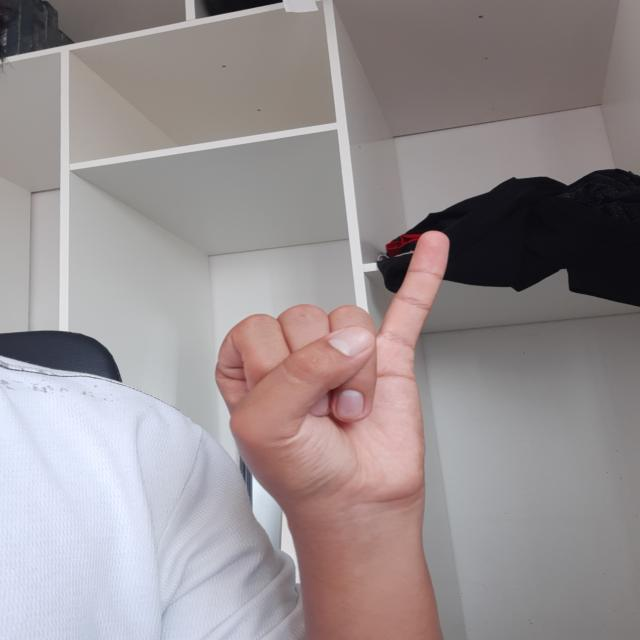I: (208, 212, 464, 516)
